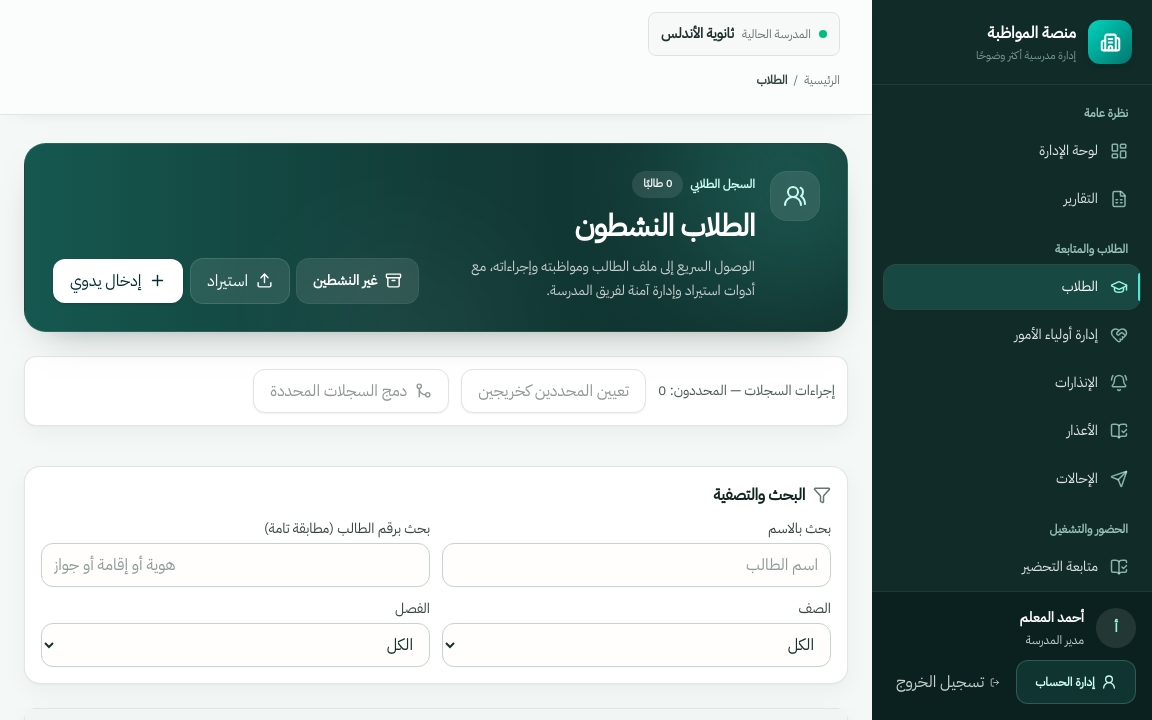
StudentsPage › يفرّق النتائج الفارغة بسبب المرشحات ويتيح مسحها
Type "اسم غير موجود" into the field labelled "بحث بالاسم" at [636, 564], box [442, 542, 831, 586]
(page scrolled)
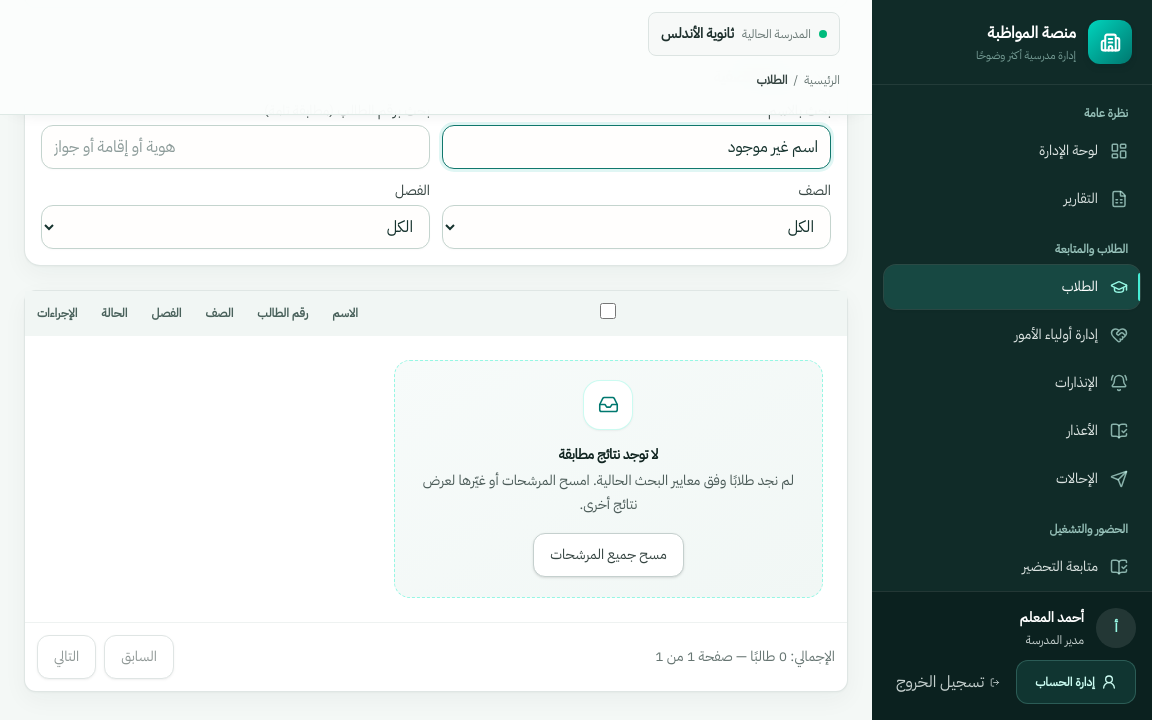
Now the heading "لا توجد نتائج مطابقة" is shown, box [559, 444, 658, 465]
Now the text "وفق معايير البحث الحالية" is shown, box [423, 470, 794, 515]
Click the button "مسح جميع المرشحات" at [608, 555], box [533, 533, 684, 577]
(page scrolled)
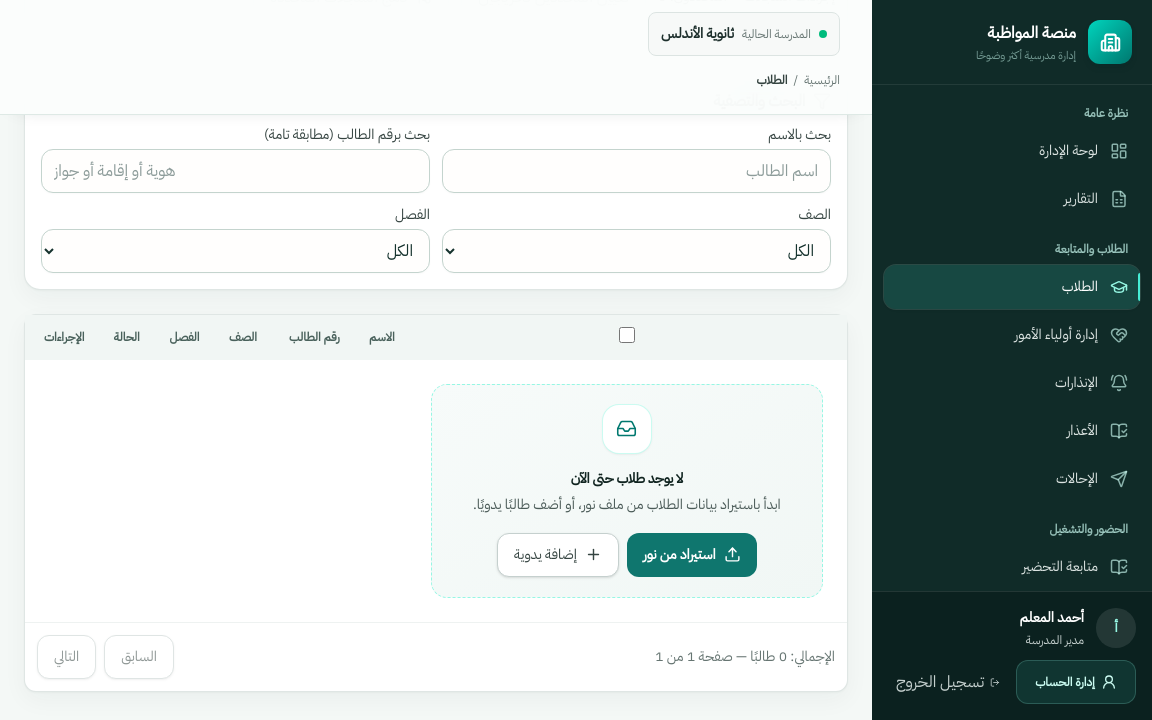
Now the field labelled "بحث بالاسم" is empty, box [442, 148, 831, 192]
Now the heading "لا يوجد طلاب حتى الآن" is shown, box [571, 468, 683, 489]
